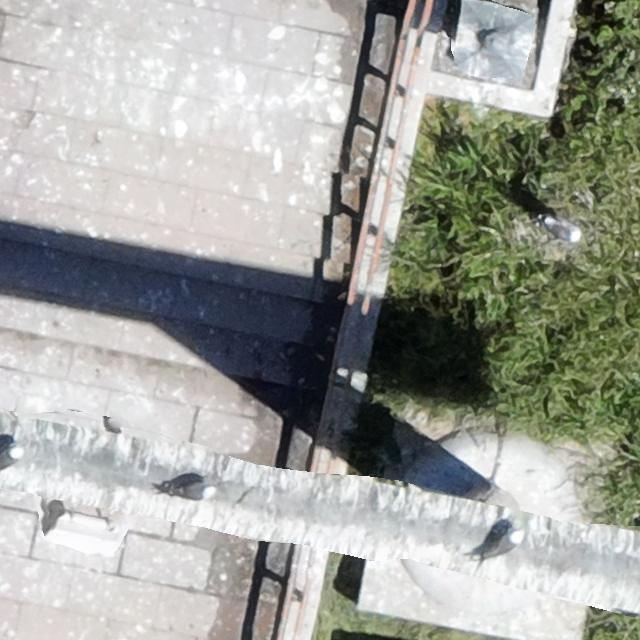umineko: (546, 220, 580, 243), (486, 534, 519, 555), (172, 481, 211, 498), (0, 447, 20, 469)
